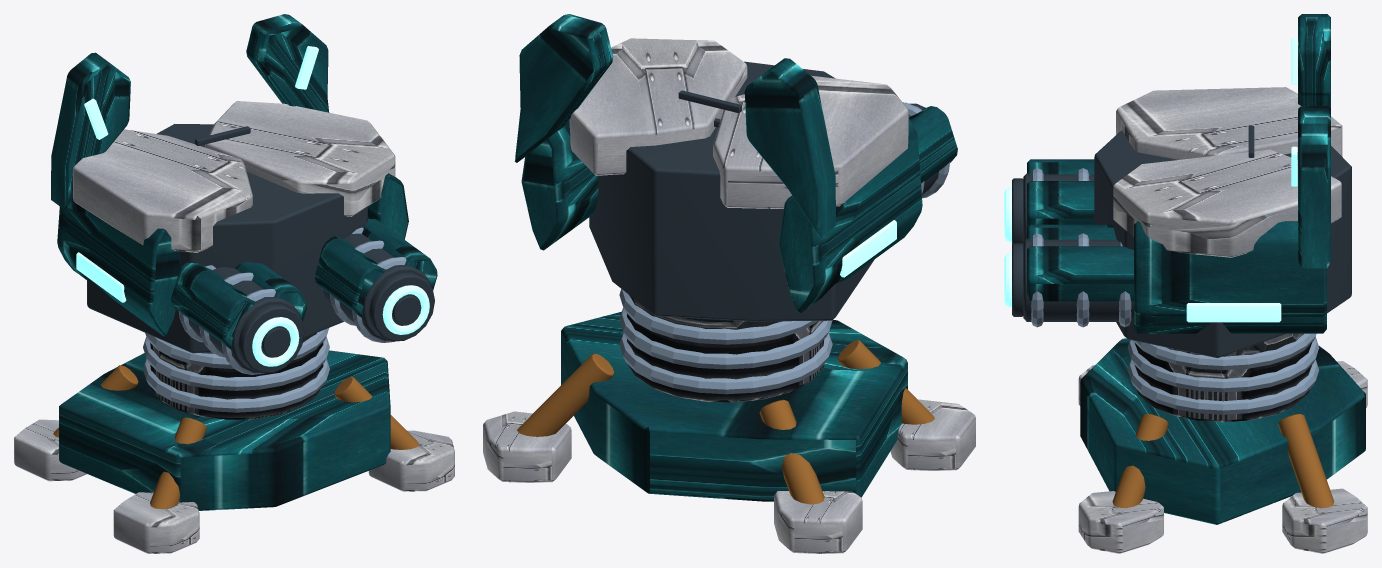
File: turret.glb
3 renders of one model, left to right at view 1: azimuth 30°, elevation 25°; view 2: azimuth 150°, elevation 25°; view 3: azimuth 270°, elevation 25°, orthographic. The views are drawn at different scales.
Parts seen in each view (by area): view 1: Turret hex anchor, Splayed planted foot, Sloped rotating gun mantle, Turntable bearing, Rotating actuator, Anchoring hydraulic, Muzzle lens ring, Fin light strip; view 2: Turret hex anchor, Splayed planted foot, Sloped rotating gun mantle, Turntable bearing, Anchoring hydraulic, Rotating actuator, Muzzle lens ring; view 3: Turret hex anchor, Splayed planted foot, Sloped rotating gun mantle, Turntable bearing, Rotating actuator, Anchoring hydraulic, Muzzle lens ring, Fin light strip.
Boxes of the visible parts, bbox=[...] form: Turret hex anchor: bbox=[51, 14, 437, 510]; Splayed planted foot: bbox=[14, 101, 454, 553]; Sloped rotating gun mantle: bbox=[87, 124, 434, 373]; Turntable bearing: bbox=[143, 227, 406, 412]; Rotating actuator: bbox=[150, 333, 323, 419]; Anchoring hydraulic: bbox=[53, 365, 419, 509]; Muzzle lens ring: bbox=[76, 252, 429, 366]; Fin light strip: bbox=[84, 46, 318, 139]; Turret hex anchor: bbox=[514, 14, 957, 501]; Splayed planted foot: bbox=[483, 38, 975, 553]; Sloped rotating gun mantle: bbox=[589, 61, 939, 321]; Turntable bearing: bbox=[619, 102, 949, 394]; Anchoring hydraulic: bbox=[517, 340, 934, 504]; Rotating actuator: bbox=[627, 295, 824, 402]; Muzzle lens ring: bbox=[840, 220, 896, 277]; Turret hex anchor: bbox=[1027, 14, 1365, 524]; Splayed planted foot: bbox=[1078, 87, 1367, 553]; Sloped rotating gun mantle: bbox=[1012, 126, 1351, 358]; Turntable bearing: bbox=[1031, 168, 1318, 414]; Rotating actuator: bbox=[1134, 333, 1312, 422]; Anchoring hydraulic: bbox=[1112, 413, 1334, 508]; Muzzle lens ring: bbox=[1004, 187, 1281, 322]; Fin light strip: bbox=[1291, 38, 1297, 186].
Size of the model in its own units: 1.1 by 1.3 by 1.03.
8 materials, 3 textured.
